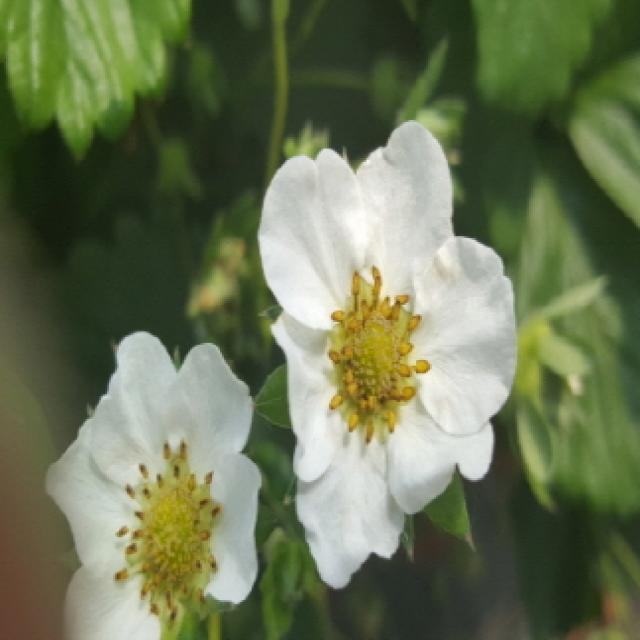Blossom Blight: (106, 436, 232, 625)
